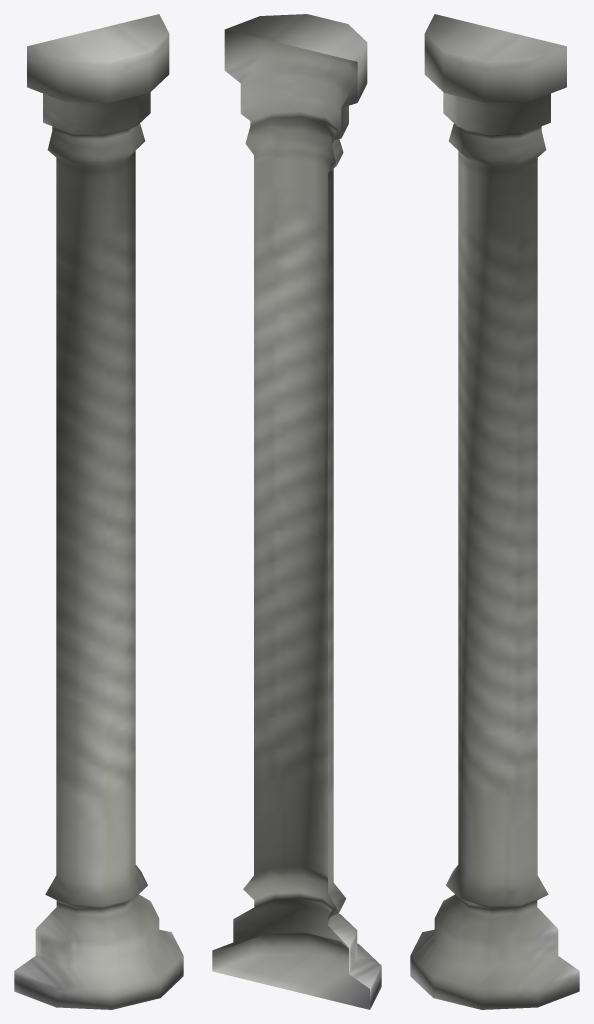
File: altar_pillar.FBX
3 renders of one model, left to right at view 1: azimuth 30°, elevation 25°; view 2: azimuth 150°, elevation 25°; view 3: azimuth 330°, elevation 25°, orthographic.
Parts seen in each view (by area): view 1: altar_pillar; view 2: altar_pillar; view 3: altar_pillar.
Boxes of the visible parts, x1=… form: altar_pillar: x1=14, y1=14, x2=183, y2=1009; altar_pillar: x1=212, y1=14, x2=381, y2=1009; altar_pillar: x1=410, y1=14, x2=579, y2=1009.
Bounding box in the file's own units: 34.63 × 198 × 16.47.
